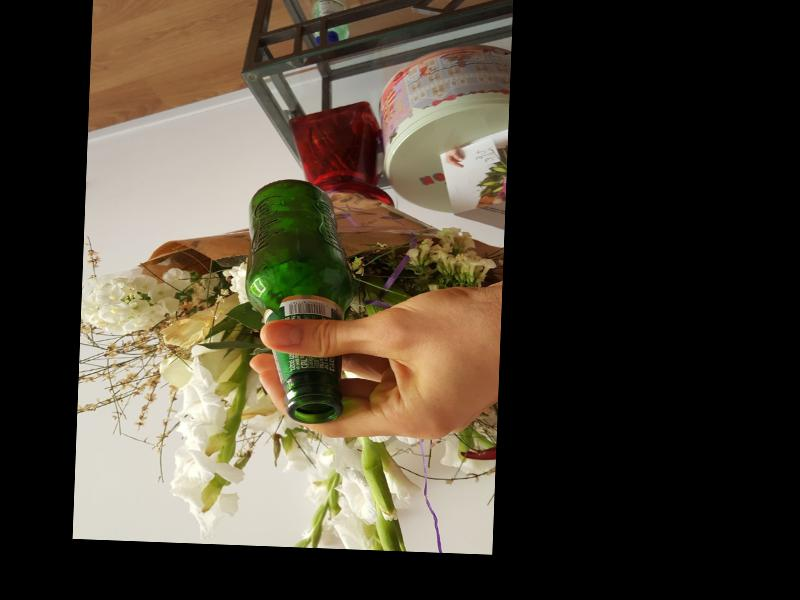Beer: (239, 176, 357, 423)
